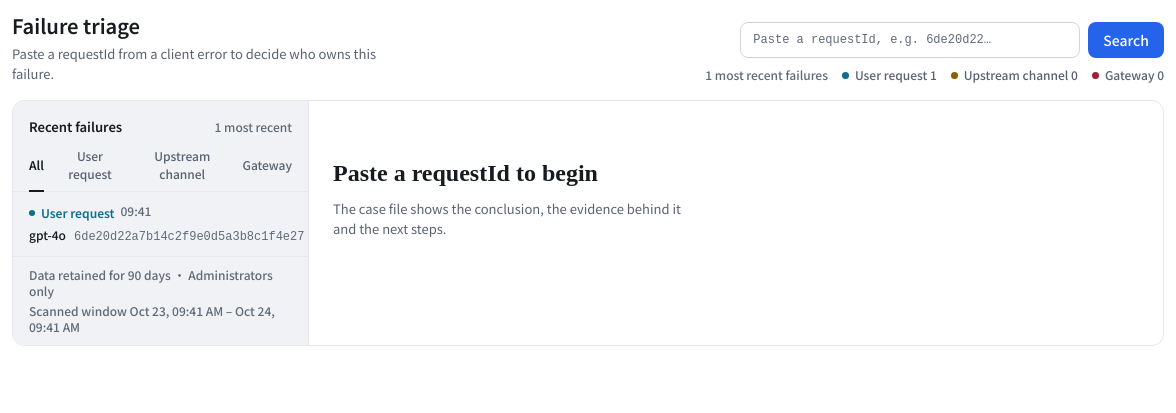
Scenario: failure triage page › shows the not-found guidance for a well-formed unknown id
Type "6de20d22a7b14c2f9e0d5a3b8c1f4e27" into the field labelled "requestId" at (910,40), box 740,22 -> 1080,58
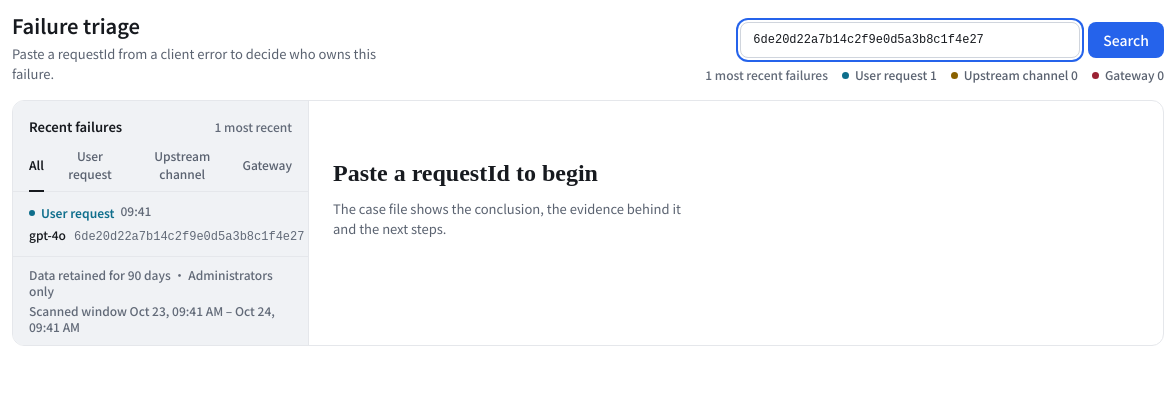
Click the button "Search" at (1126,40), box 1088,22 -> 1164,58
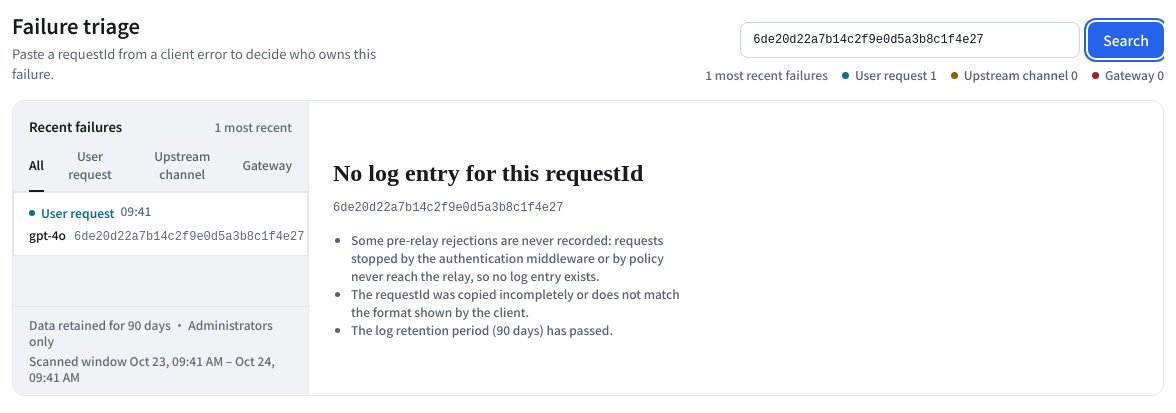
Now the element with test id "case-not-found" shows "6de20d22a7b14c2f9e0d5a3b8c1f4e27", box 333,201 -> 563,215
Now the list item "pre-relay rejections are never recorded" is shown, box 351,231 -> 664,284
Now the list item "copied incompletely" is shown, box 351,285 -> 680,320
